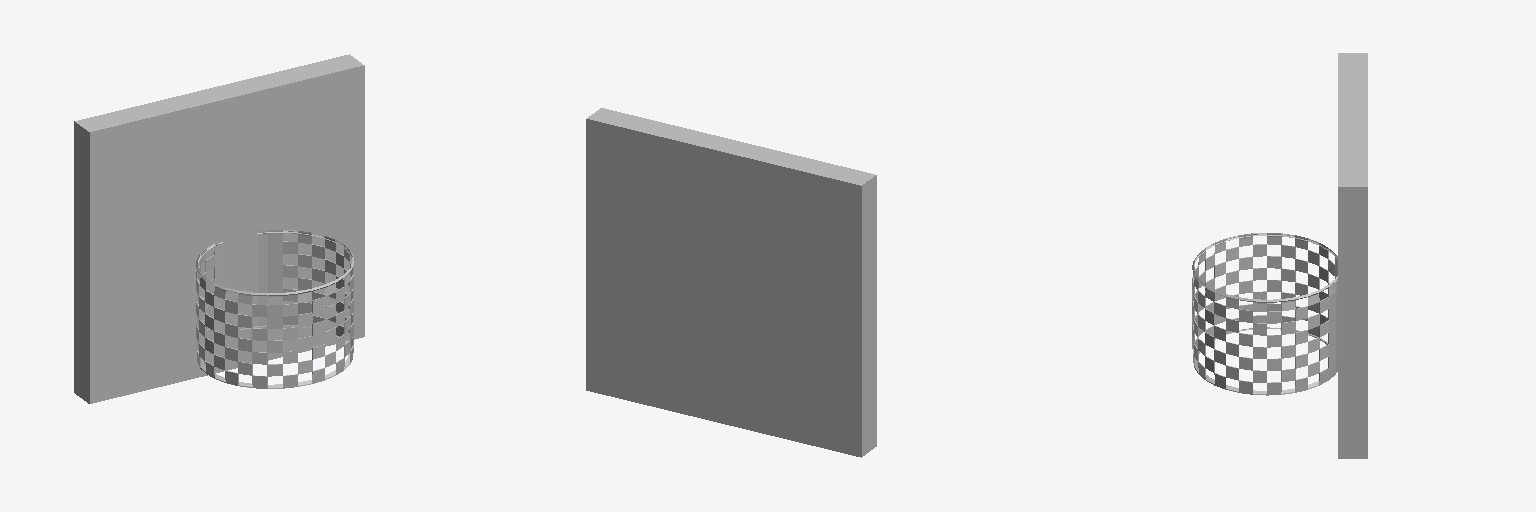
Rendered from basquete.obj.
3 views of the same model, side by side, from view 1: azimuth 30°, elevation 25°; view 2: azimuth 150°, elevation 25°; view 3: azimuth 270°, elevation 25° (orthographic).
Parts seen in each view (by area): view 1: Cubo, Esfera_UV; view 2: Cubo; view 3: Esfera_UV, Cubo.
Boxes of the visible parts, box(x1,y1,x2,y2) form: Cubo: box(74, 54, 364, 403); Esfera_UV: box(196, 230, 353, 388); Cubo: box(586, 108, 876, 457); Esfera_UV: box(1192, 233, 1337, 395); Cubo: box(1338, 53, 1367, 458).
Size of the model in its own units: 3.37 by 3.18 by 1.86.